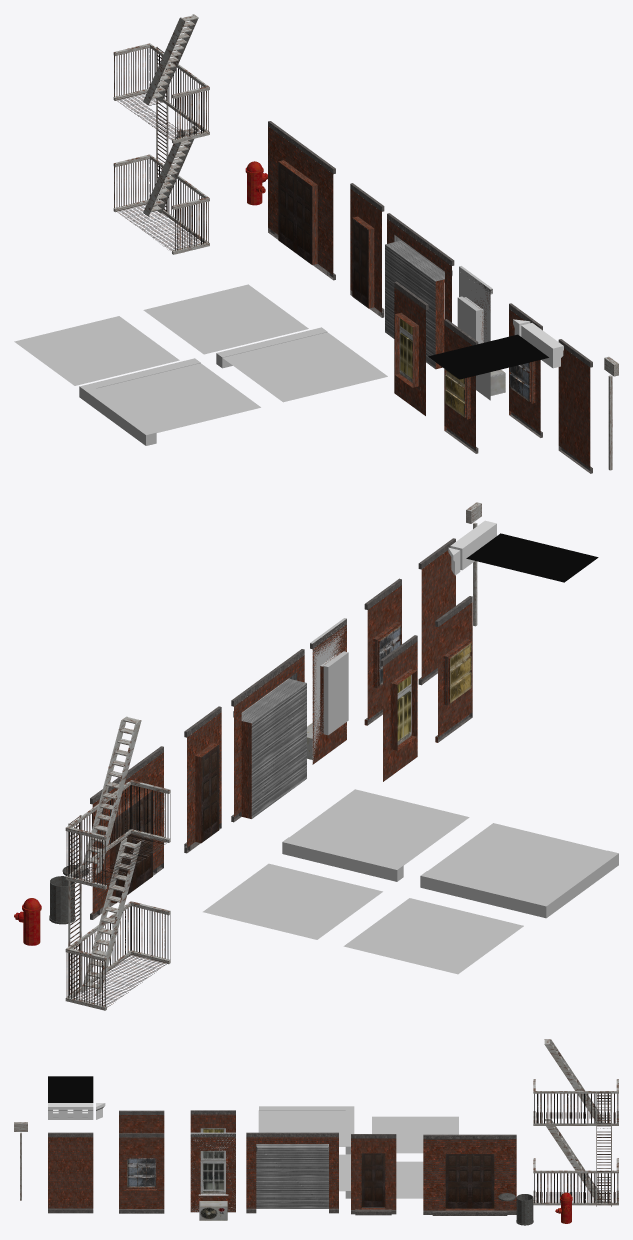
File: buildings .fbx
The picture shows the model from 3 angles, top to bottom: view 1: azimuth 30°, elevation 25°; view 2: azimuth 150°, elevation 25°; view 3: azimuth 270°, elevation 25°; orthographic projection. The views are drawn at different scales.
Visible parts, largest first — view 1: Cube.002, Double-Door, Cube, Plane.001, Plane.002, Blinds.001, Door, Wall, Window-Top-Dark.001, Roof, Bottom-Window.002, Jail (+13 smaller); view 2: Cube.002, Cube, Blinds.001, Plane.001, Plane.002, Double-Door, Door, Bottom-Window.002, Window-Top-Dark.001, Roof, Bottom-Window.001, Window-Top-Dark (+15 smaller); view 3: Double-Door, Blinds.001, Wall, Door, Bottom-Window.001, Window-Top-Dark.003, Cube.002, Plane.002, Jail, Roof, Jail.001, Bottom-Window.002 (+15 smaller).
Boxes of the visible parts, x1=… form: Cube.002: x1=79, y1=358, x2=260, y2=445; Double-Door: x1=268, y1=121, x2=335, y2=280; Cube: x1=216, y1=327, x2=387, y2=402; Plane.001: x1=143, y1=284, x2=308, y2=354; Plane.002: x1=14, y1=316, x2=179, y2=385; Blinds.001: x1=385, y1=213, x2=454, y2=369; Door: x1=350, y1=183, x2=384, y2=317; Wall: x1=558, y1=339, x2=592, y2=473; Window-Top-Dark.001: x1=394, y1=281, x2=428, y2=415; Roof: x1=428, y1=334, x2=548, y2=379; Bottom-Window.002: x1=444, y1=319, x2=478, y2=453; Jail: x1=114, y1=48, x2=208, y2=139; Cube.002: x1=420, y1=823, x2=618, y2=918; Cube: x1=282, y1=789, x2=469, y2=881; Blinds.001: x1=231, y1=649, x2=306, y2=822; Plane.001: x1=203, y1=863, x2=382, y2=939; Plane.002: x1=343, y1=898, x2=523, y2=974; Double-Door: x1=90, y1=746, x2=163, y2=919; Door: x1=184, y1=706, x2=221, y2=853; Bottom-Window.002: x1=435, y1=596, x2=472, y2=742; Window-Top-Dark.001: x1=380, y1=635, x2=417, y2=781; Roof: x1=466, y1=533, x2=598, y2=582; Bottom-Window.001: x1=364, y1=578, x2=401, y2=725; Window-Top-Dark: x1=310, y1=618, x2=348, y2=763; Double-Door: x1=423, y1=1134, x2=516, y2=1215; Blinds.001: x1=246, y1=1132, x2=338, y2=1213; Wall: x1=48, y1=1132, x2=93, y2=1213; Door: x1=351, y1=1134, x2=396, y2=1215; Bottom-Window.001: x1=119, y1=1133, x2=164, y2=1213; Window-Top-Dark.003: x1=190, y1=1133, x2=235, y2=1212; Cube.002: x1=258, y1=1106, x2=354, y2=1154; Plane.002: x1=372, y1=1116, x2=458, y2=1153; Jail: x1=534, y1=1093, x2=618, y2=1123; Roof: x1=48, y1=1076, x2=93, y2=1102; Jail.001: x1=534, y1=1173, x2=618, y2=1203; Bottom-Window.002: x1=119, y1=1110, x2=164, y2=1133.
Bounding box in the file's own units: 1571 × 994 × 3402.
